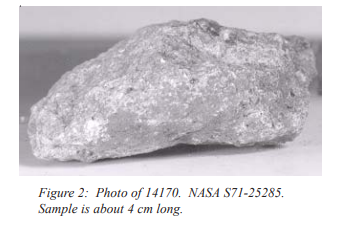Breccia: (35, 13, 321, 165)
